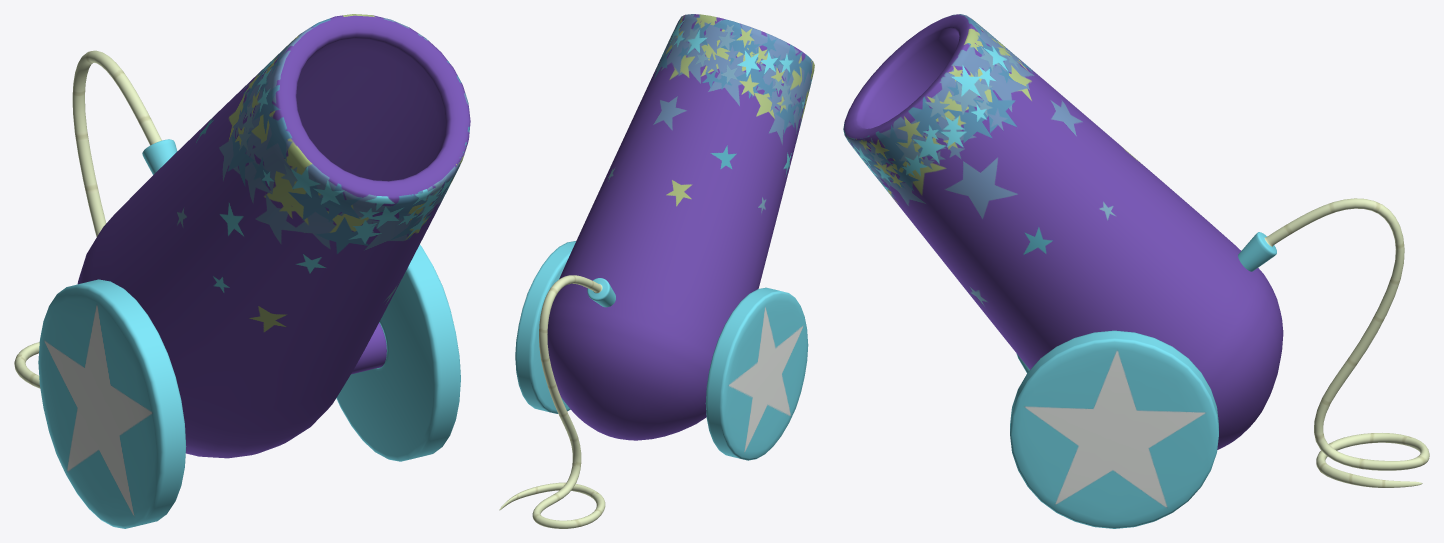
Rendered from cannon.glb.
3 renders of one model, left to right at view 1: azimuth 30°, elevation 25°; view 2: azimuth 150°, elevation 25°; view 3: azimuth 270°, elevation 25°, orthographic. The views are drawn at different scales.
Parts seen in each view (by area): view 1: cannon; view 2: cannon; view 3: cannon.
Boxes of the visible parts, x1,y1,x2,y2 form: cannon: (14,14,470,528); cannon: (499,14,814,528); cannon: (843,14,1429,528).
Bounding box in the file's own units: 1.86 × 3.1 × 3.72.
1 material, 1 textured.
